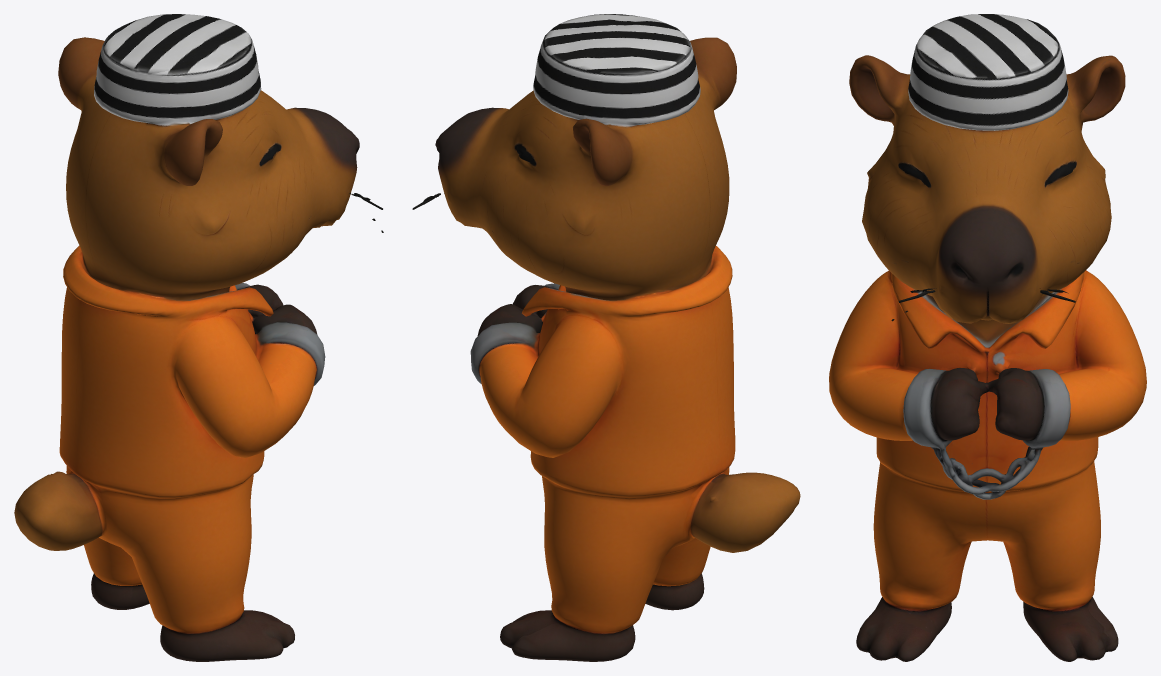
Rendered from tripo_convert_82933e8b-866f-4c2b-9320-50222371f9fd.fbx.
3 views of the same model, side by side, from view 1: azimuth 30°, elevation 25°; view 2: azimuth 150°, elevation 25°; view 3: azimuth 270°, elevation 25° (orthographic).
Parts seen in each view (by area): view 1: tripo_node_82933e8b; view 2: tripo_node_82933e8b; view 3: tripo_node_82933e8b.
Part boxes in pixels (box(x1,y1,x2,y2)): tripo_node_82933e8b: box(14, 14, 383, 661); tripo_node_82933e8b: box(412, 14, 800, 661); tripo_node_82933e8b: box(829, 14, 1146, 661).
Size of the model in its own units: 0.6013 by 1 by 0.4827.
1 material, 1 textured.
